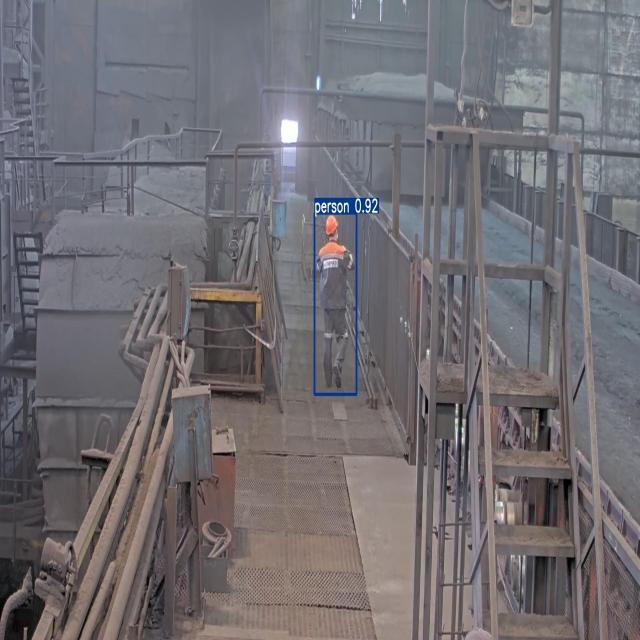safety_helmet: (315, 213, 357, 394)
